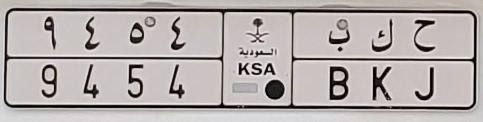4: (81, 15, 102, 101), (168, 15, 187, 102)
5: (125, 19, 146, 100)
9: (36, 14, 62, 100)
B: (325, 27, 351, 103)
J: (412, 13, 439, 102)
K: (368, 15, 398, 103)
